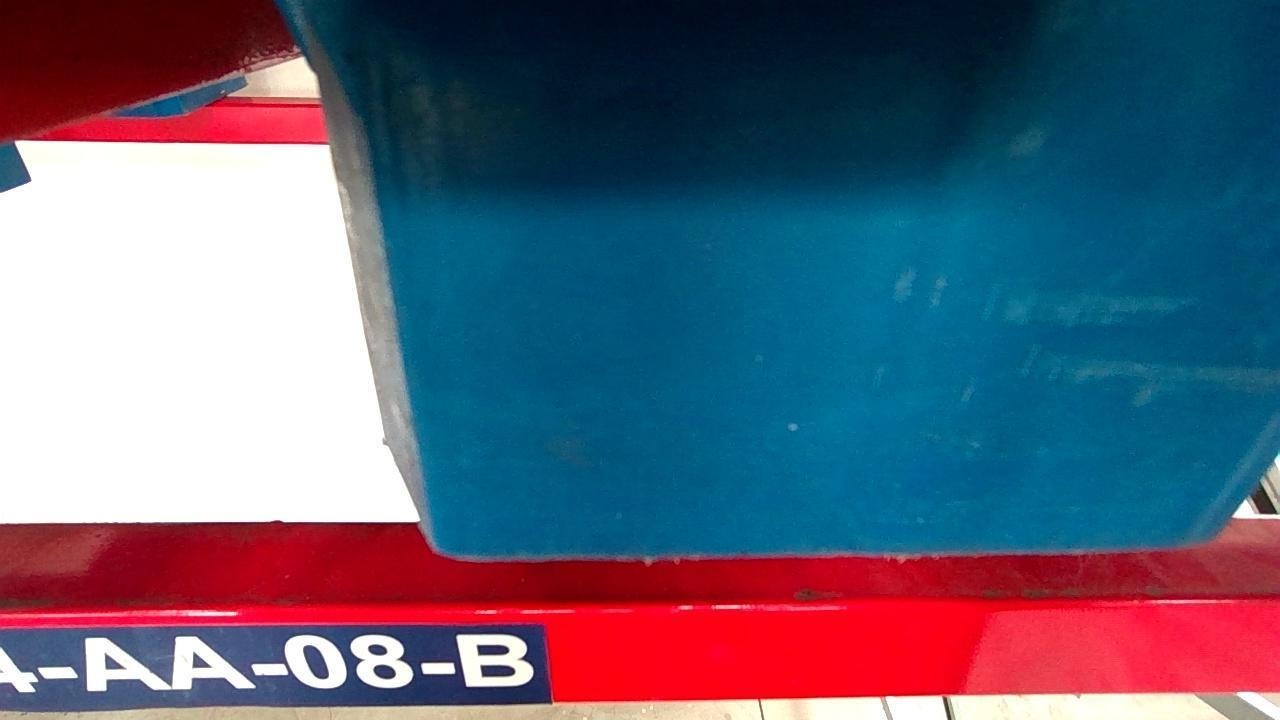h_rack: (0, 595, 1277, 711)
